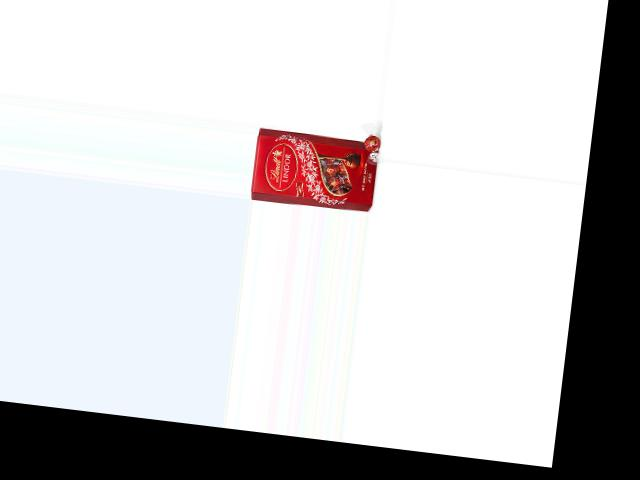chocolate: (250, 120, 380, 212)
